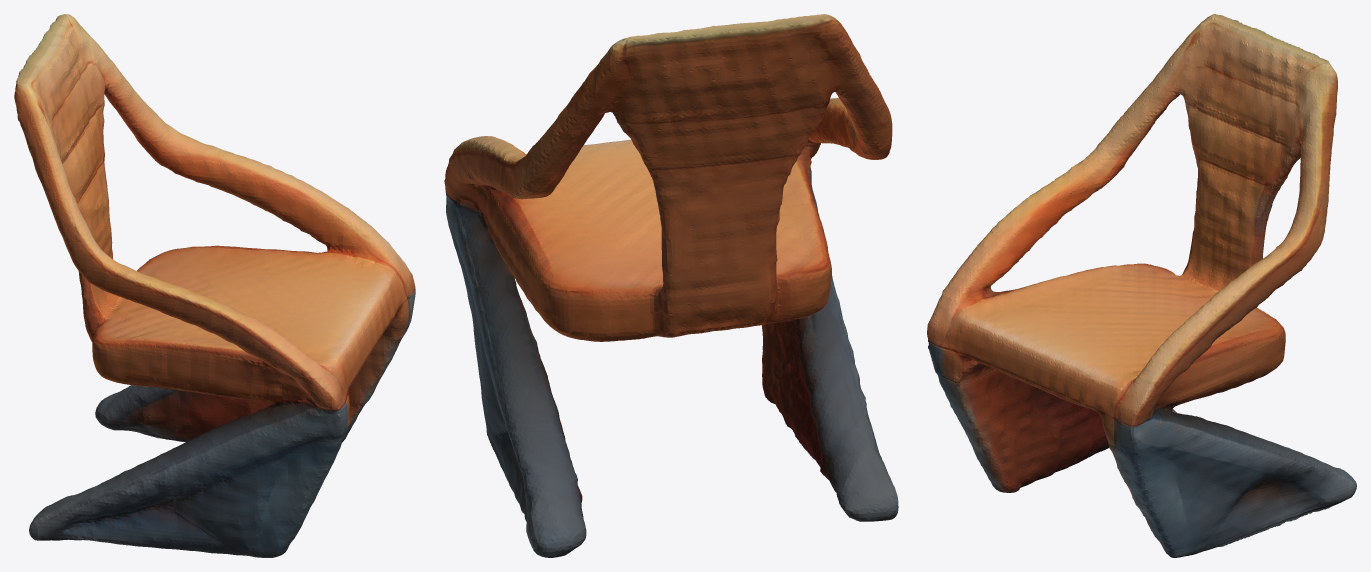
The picture shows the model from 3 angles, left to right: view 1: azimuth 30°, elevation 25°; view 2: azimuth 150°, elevation 25°; view 3: azimuth 270°, elevation 25°; orthographic projection. The views are drawn at different scales.
Parts seen in each view (by area): view 1: output.obj; view 2: output.obj; view 3: output.obj.
Part boxes in pixels (box(x1,y1,x2,y2)): output.obj: box(14, 14, 415, 557); output.obj: box(444, 14, 898, 557); output.obj: box(927, 14, 1356, 557).
Size of the model in its own units: 1.8 by 1.97 by 1.86.
1 material, 1 textured.
